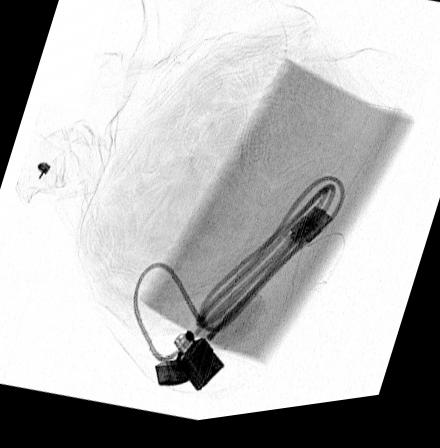Lighter: (154, 335, 224, 397)
